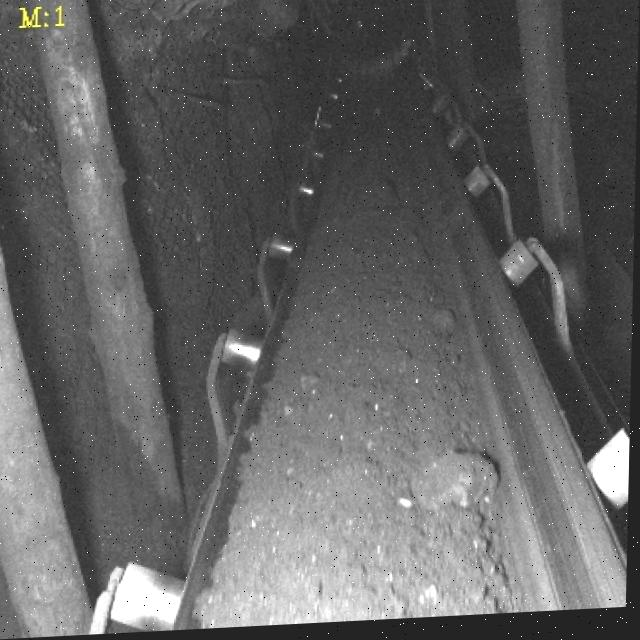large_sized_coal: (410, 446, 500, 522)
